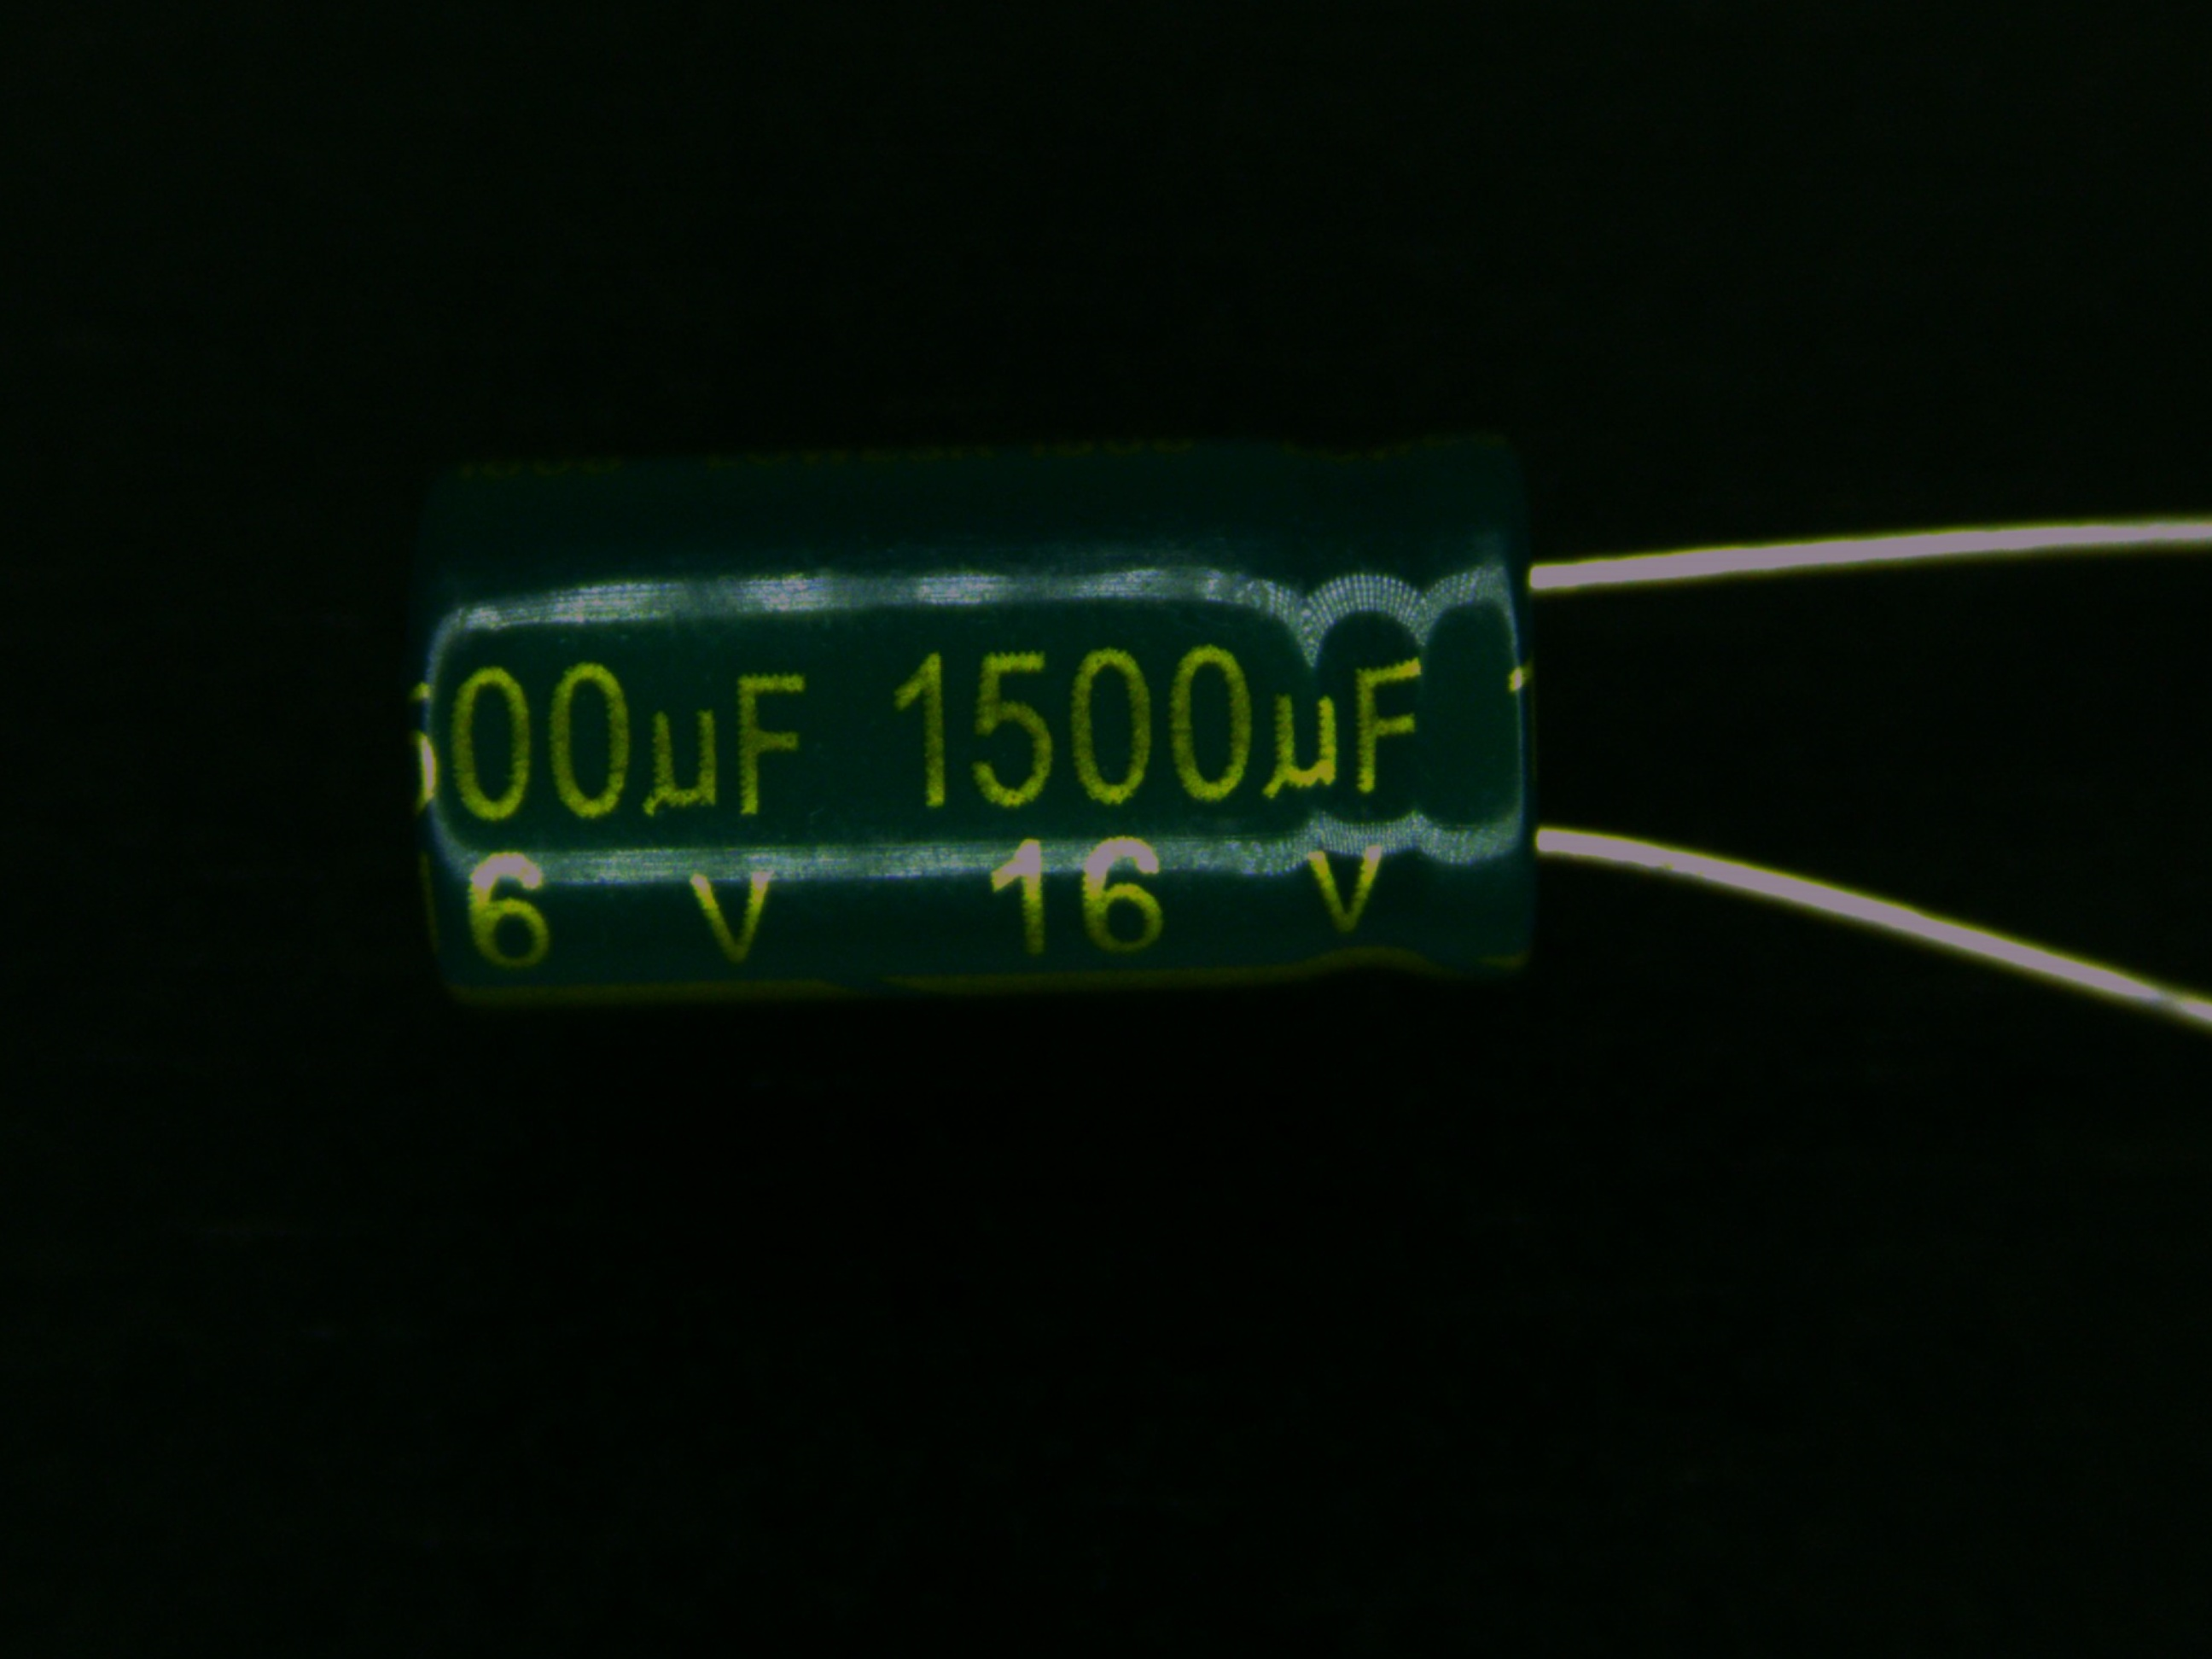c1: (401, 434, 1782, 1000)
